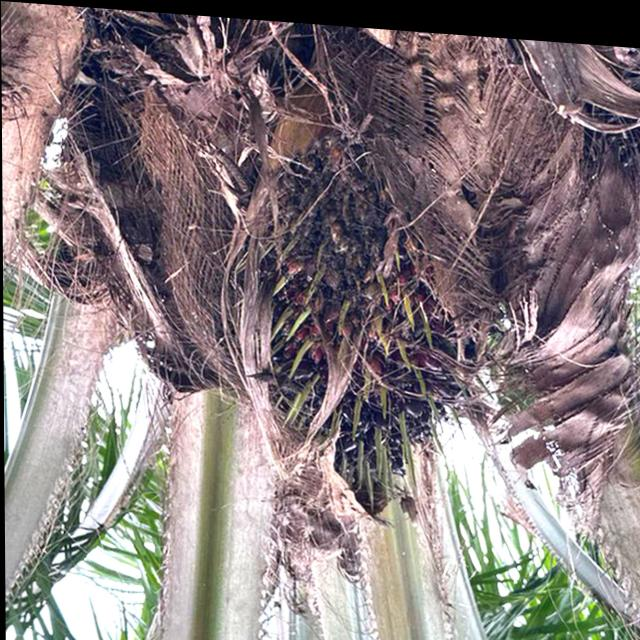unripe: (224, 106, 500, 516)
